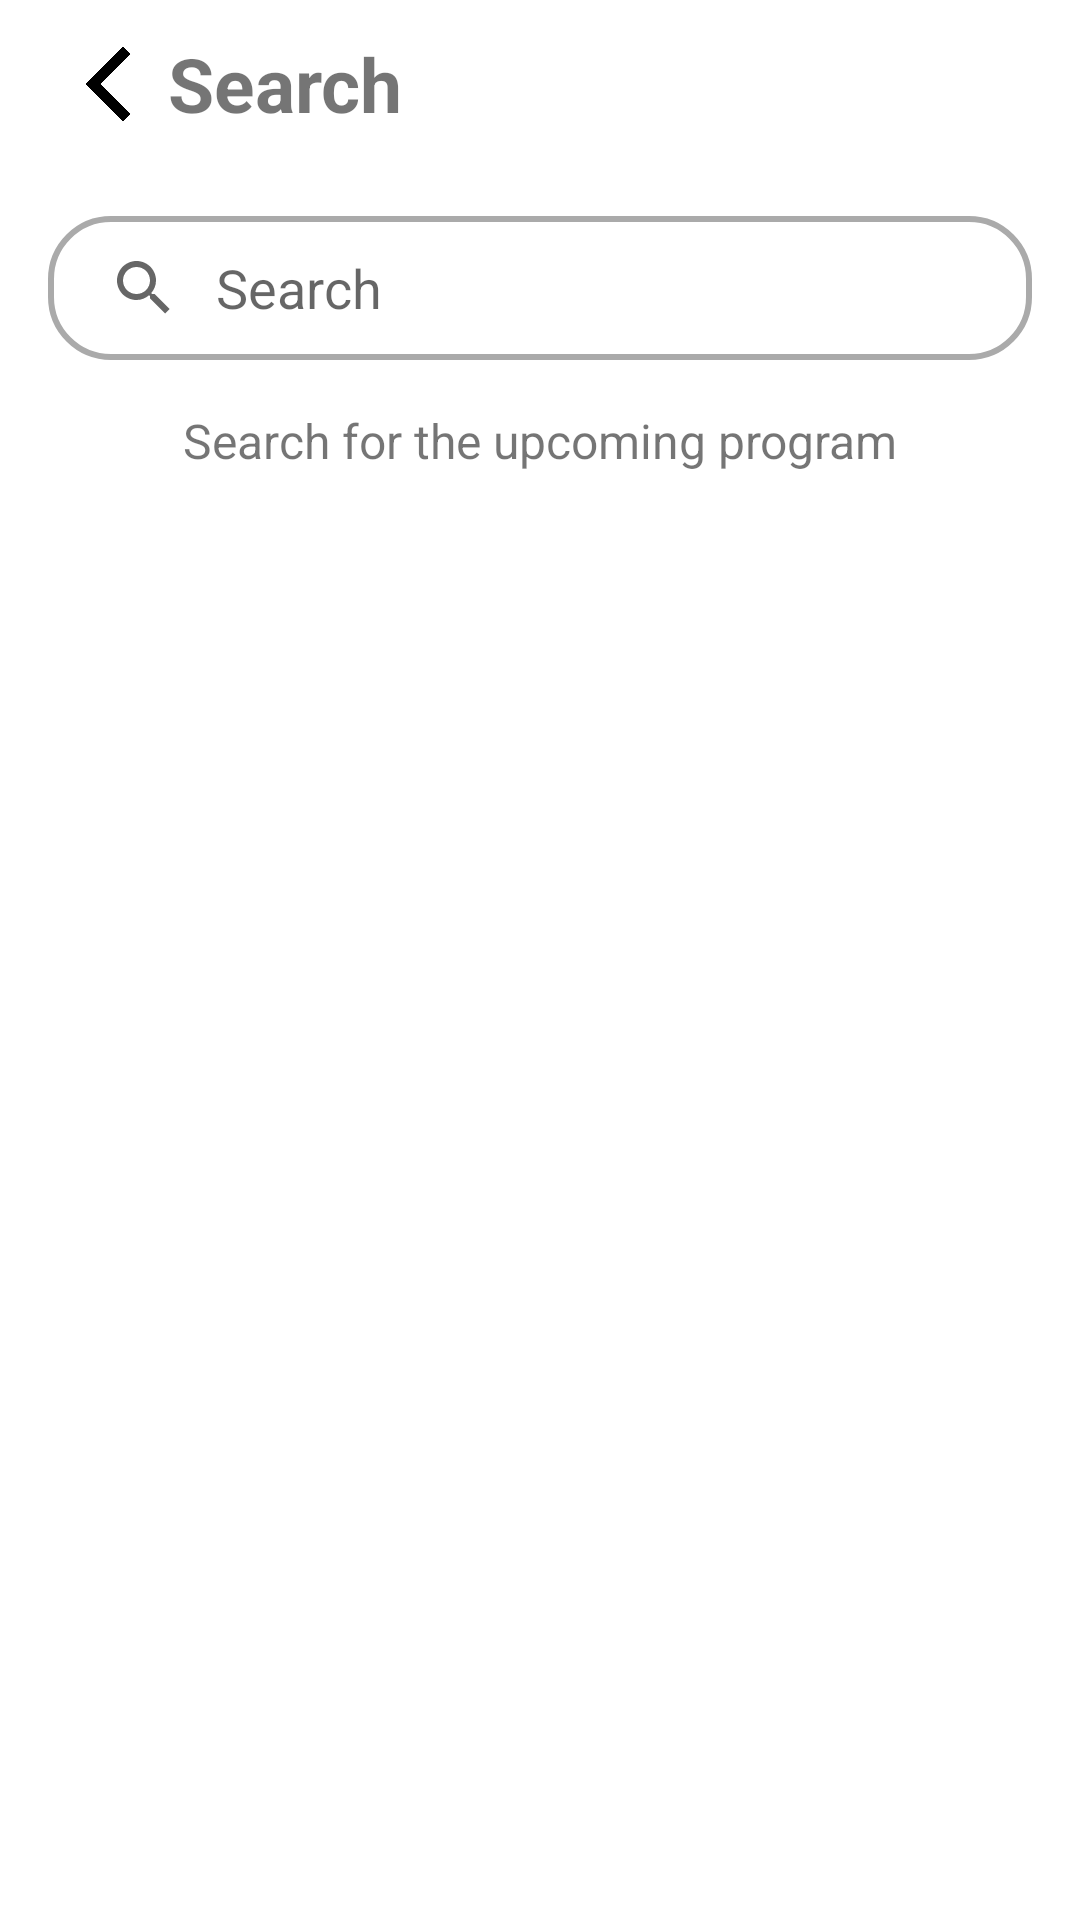

Named icons in this screenshot (1080w x 1920h) and their centers, [x,y]:
iconback: [108,84]
